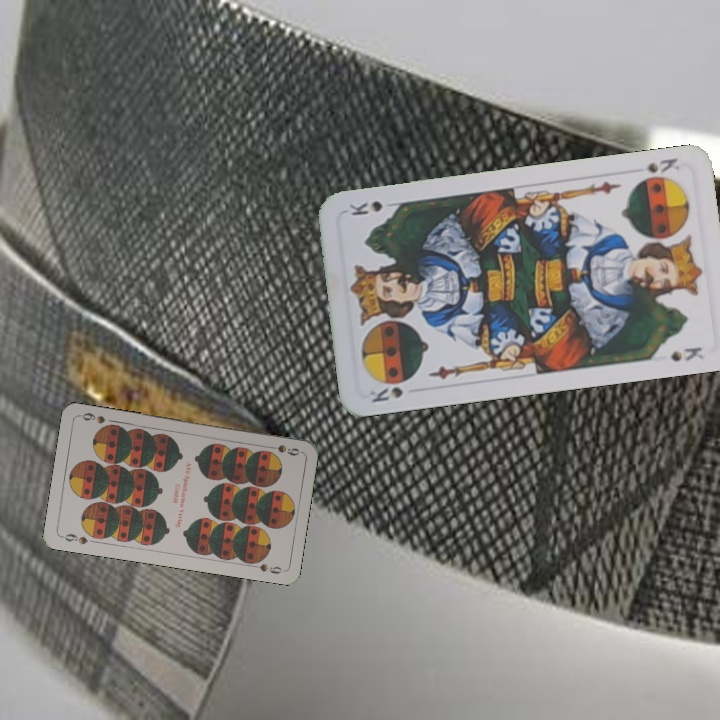S9: (262, 441, 302, 458), (57, 529, 90, 547)
SK: (640, 153, 686, 176), (365, 383, 406, 405)
